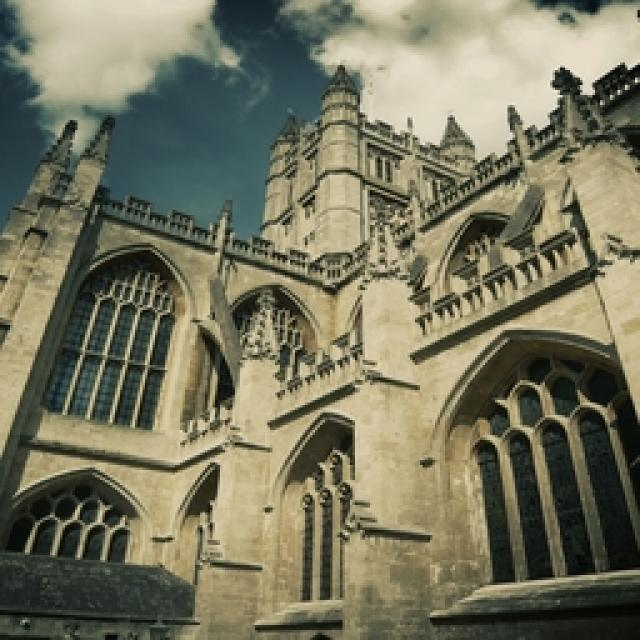Abbey: (23, 73, 640, 640)
